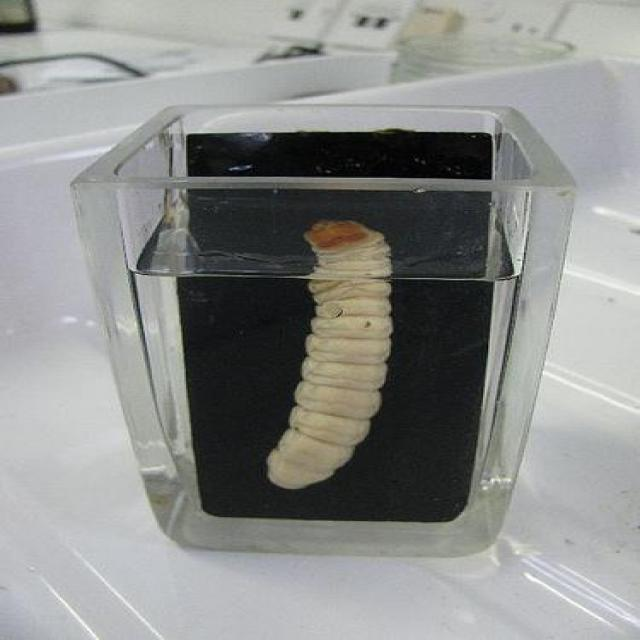Grub-Adult-: (248, 216, 410, 489)
